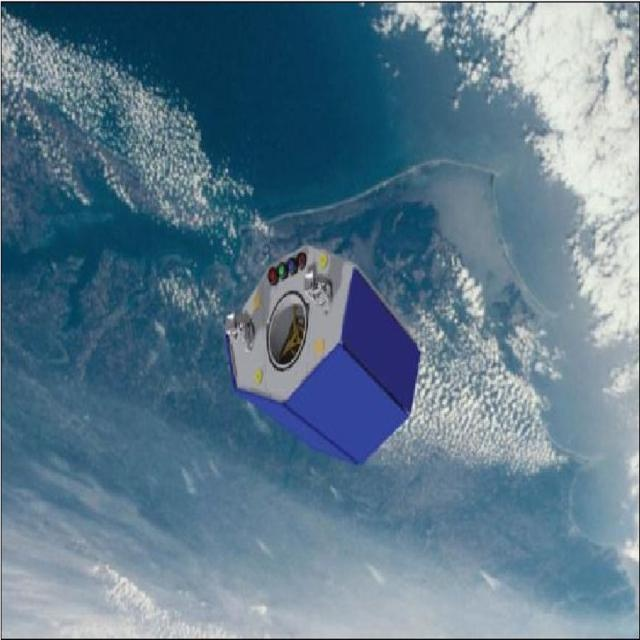medium_debris: (203, 233, 432, 479)
